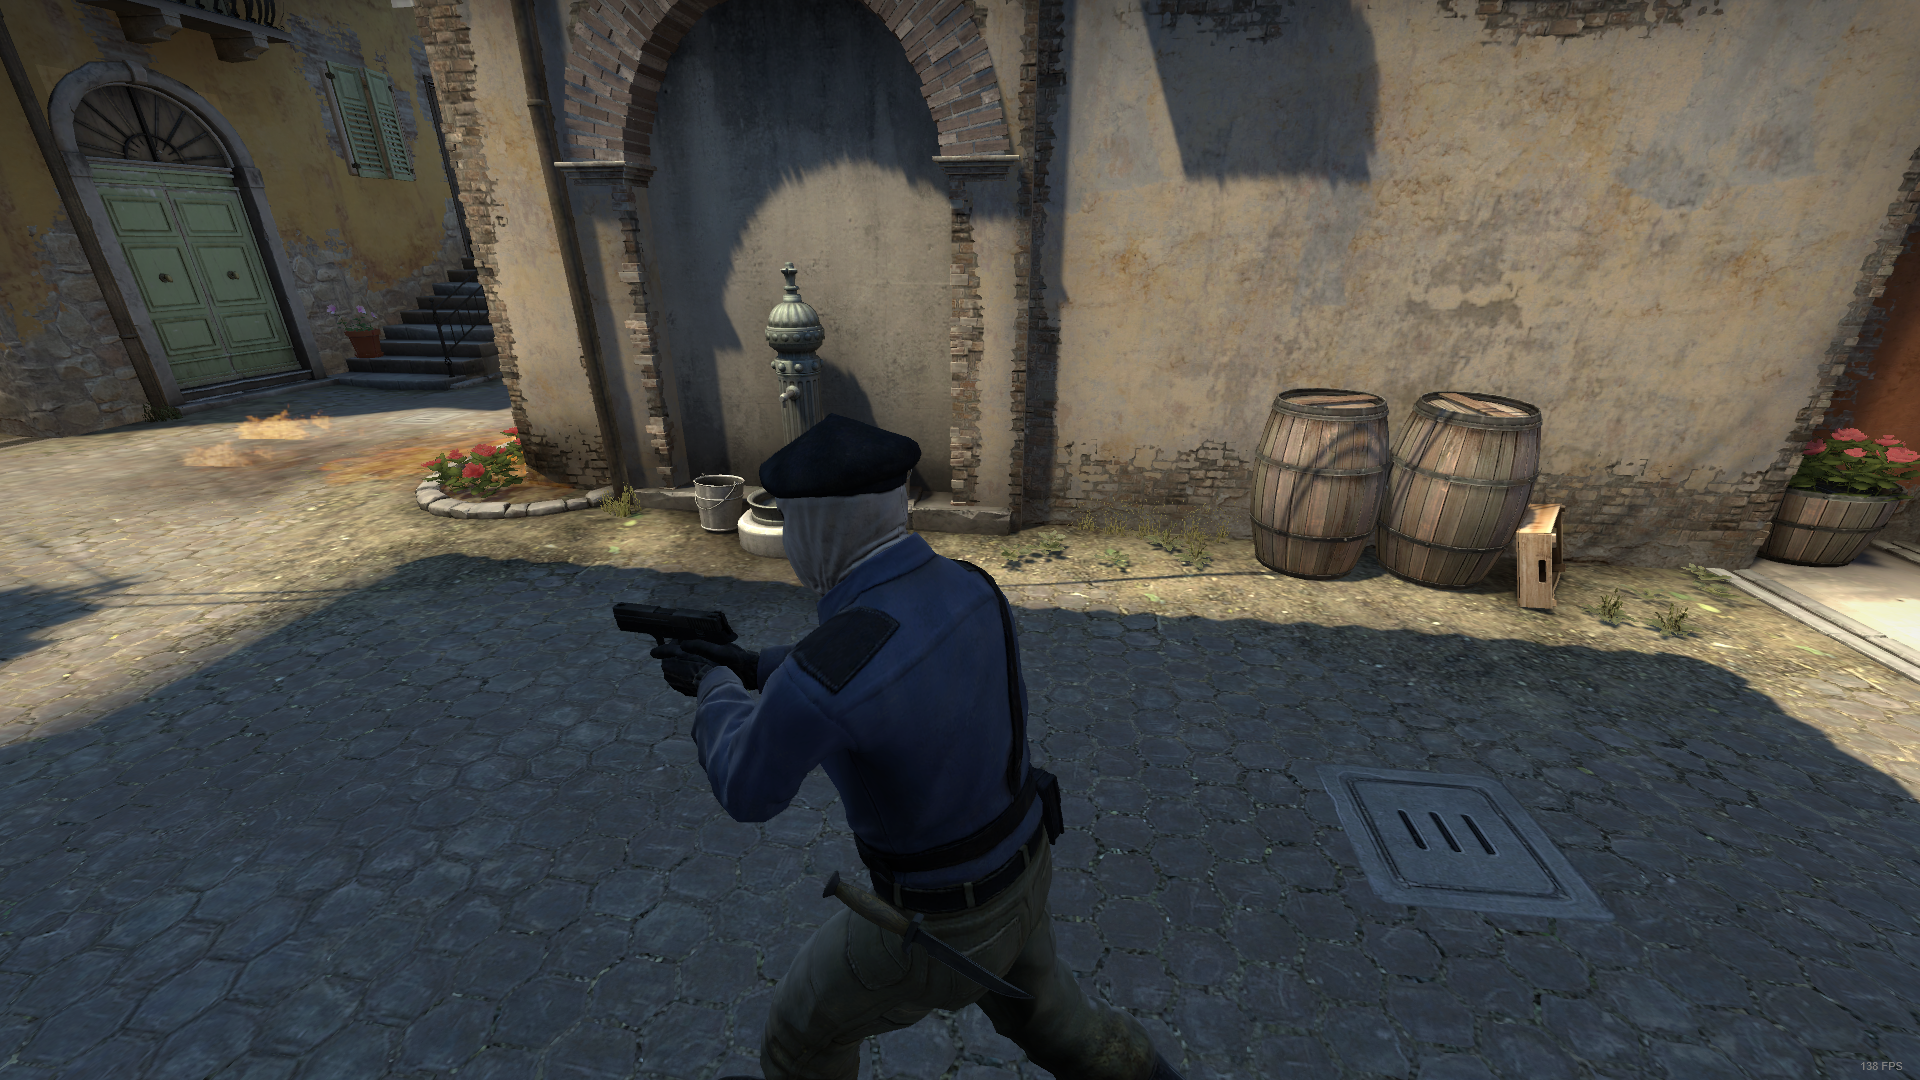t: (609, 407, 1195, 1080)
